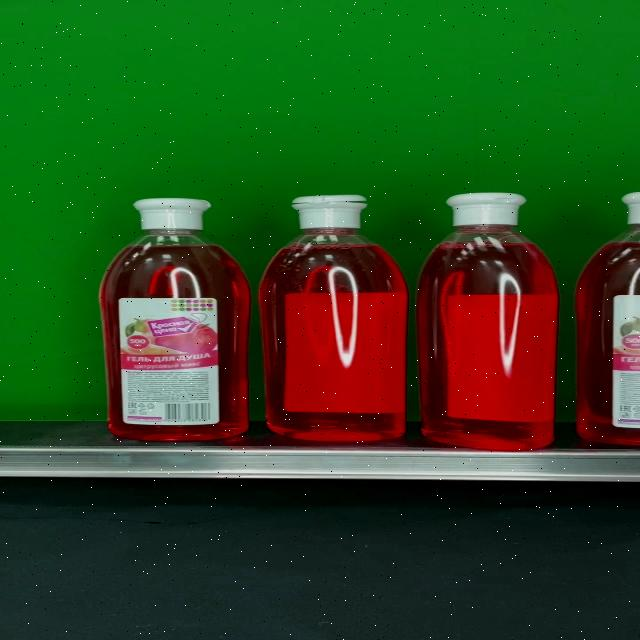Bottle: (259, 194, 408, 440), (100, 198, 250, 441), (418, 193, 559, 449)
Cap: (445, 193, 527, 226), (134, 198, 212, 232), (292, 195, 369, 229)
